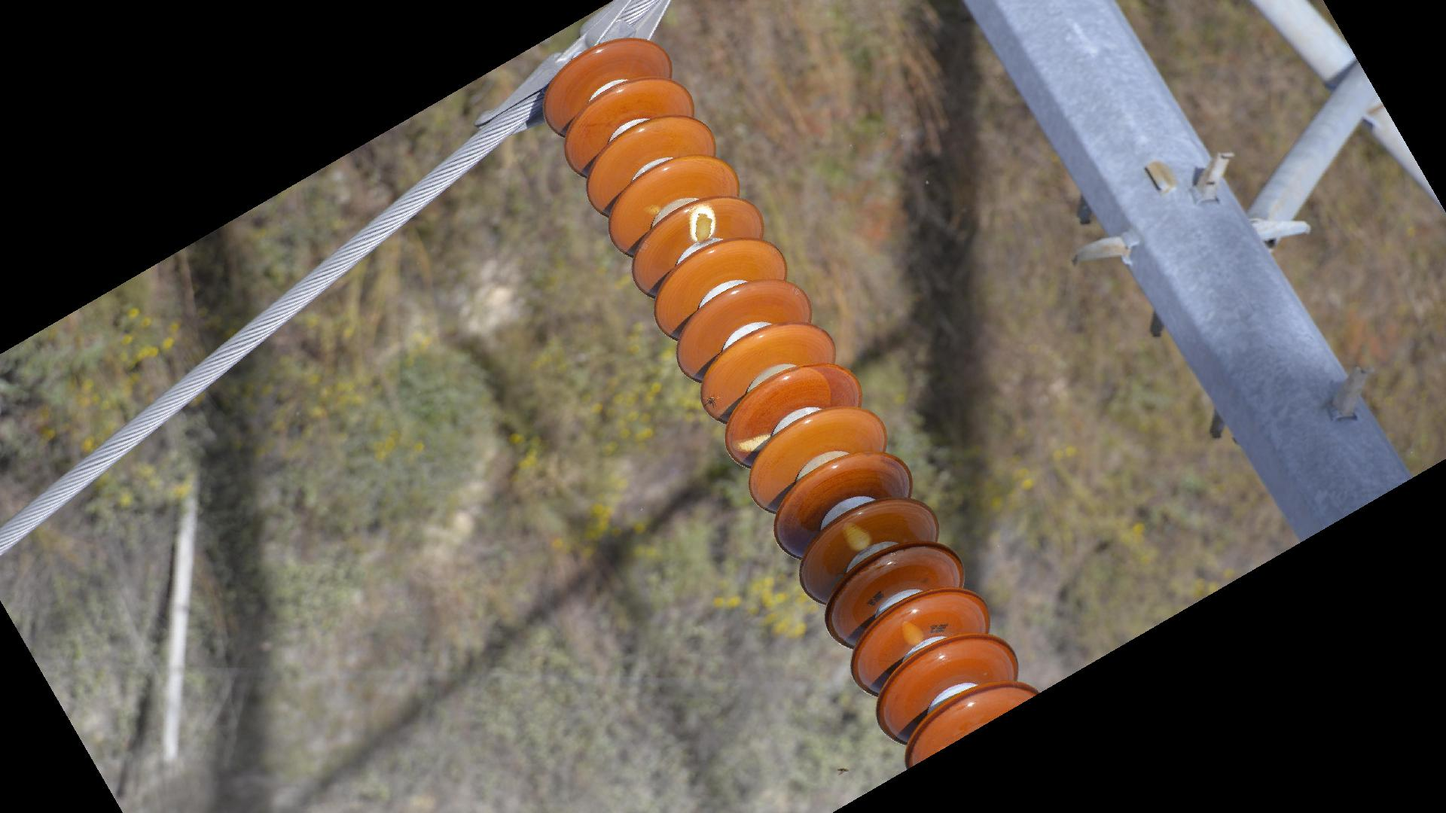insulator: (537, 29, 1045, 772)
insulator_flashover: (688, 201, 718, 243), (840, 519, 874, 555), (729, 431, 772, 456), (900, 618, 926, 647)
